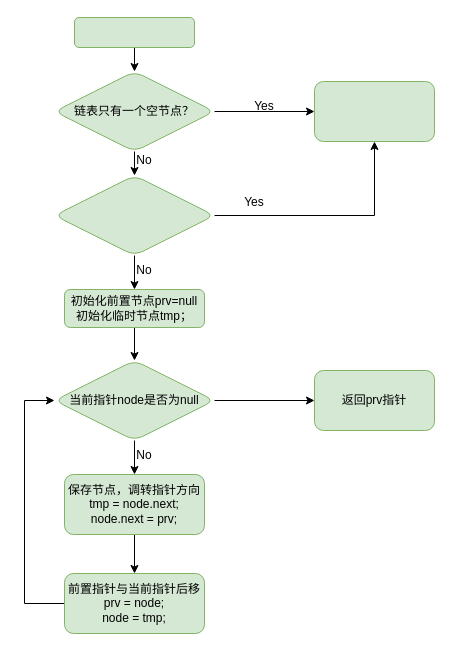
This 452x651 diagram has some shape labels left out. The centre of each missing label's shape, as x and y in pixels:
极端情况检测: pixel 134 32
直接返回唯一节点: pixel 374 111
链表只有一个节点？: pixel 134 215
